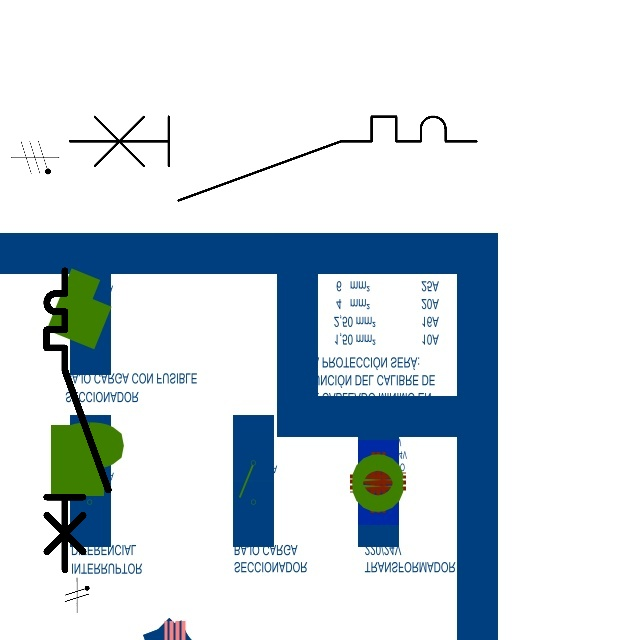interruptor_termomagnetico: (59, 106, 486, 210), (39, 263, 116, 577)
